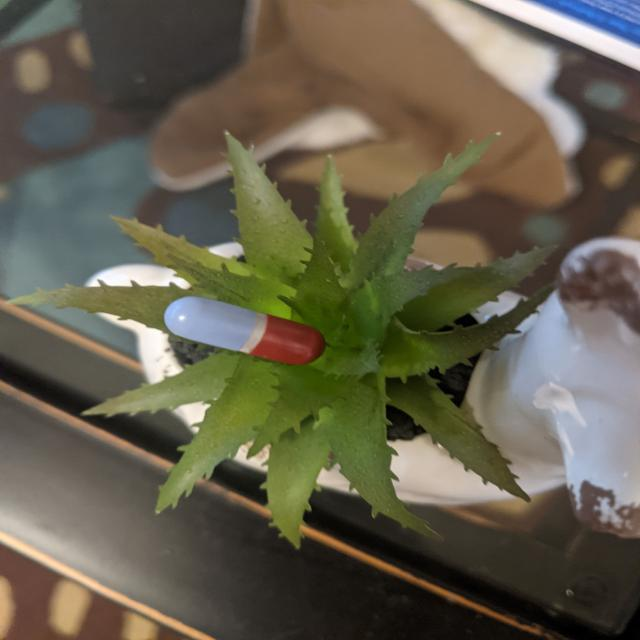non-organic waste: (162, 294, 328, 367)
